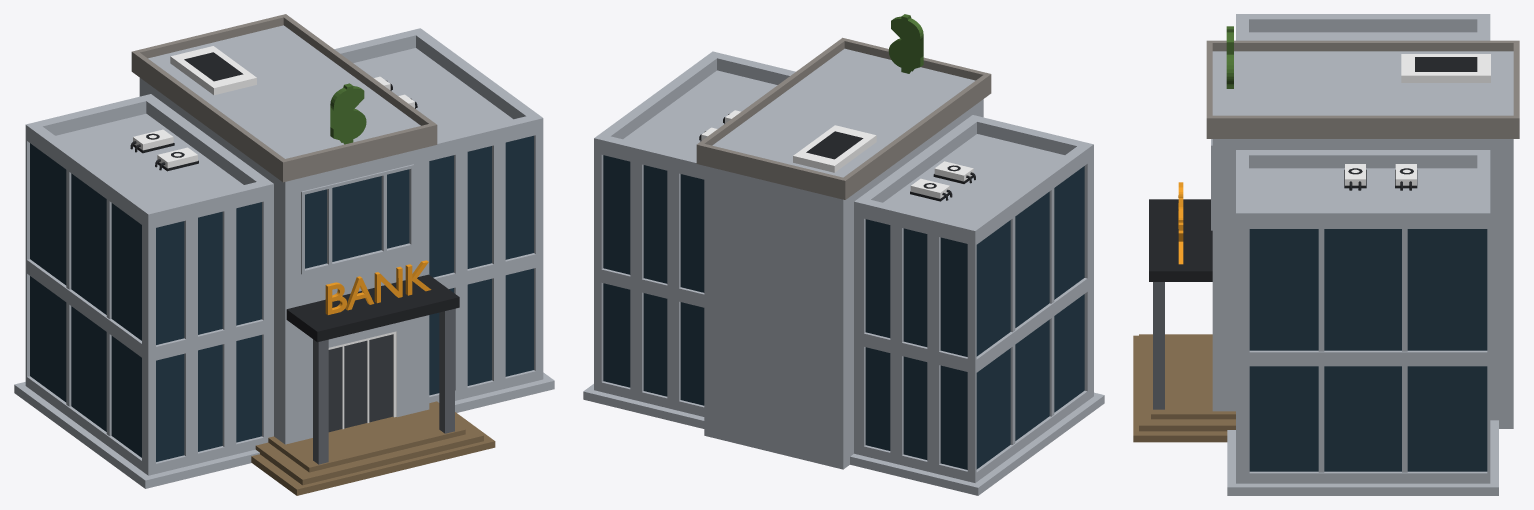
The model's file is Bank_1.fbx.
The picture shows the model from 3 angles, left to right: view 1: azimuth 30°, elevation 25°; view 2: azimuth 150°, elevation 25°; view 3: azimuth 270°, elevation 25°; orthographic projection. The views are drawn at different scales.
Visible parts, largest first — view 1: Bank_1; view 2: Bank_1; view 3: Bank_1.
Part boxes in pixels (x1,y1,x2,y2): Bank_1: (14,14,554,495); Bank_1: (583,14,1104,495); Bank_1: (1133,14,1519,495).
Size of the model in its own units: 1893 by 1558 by 1496.
